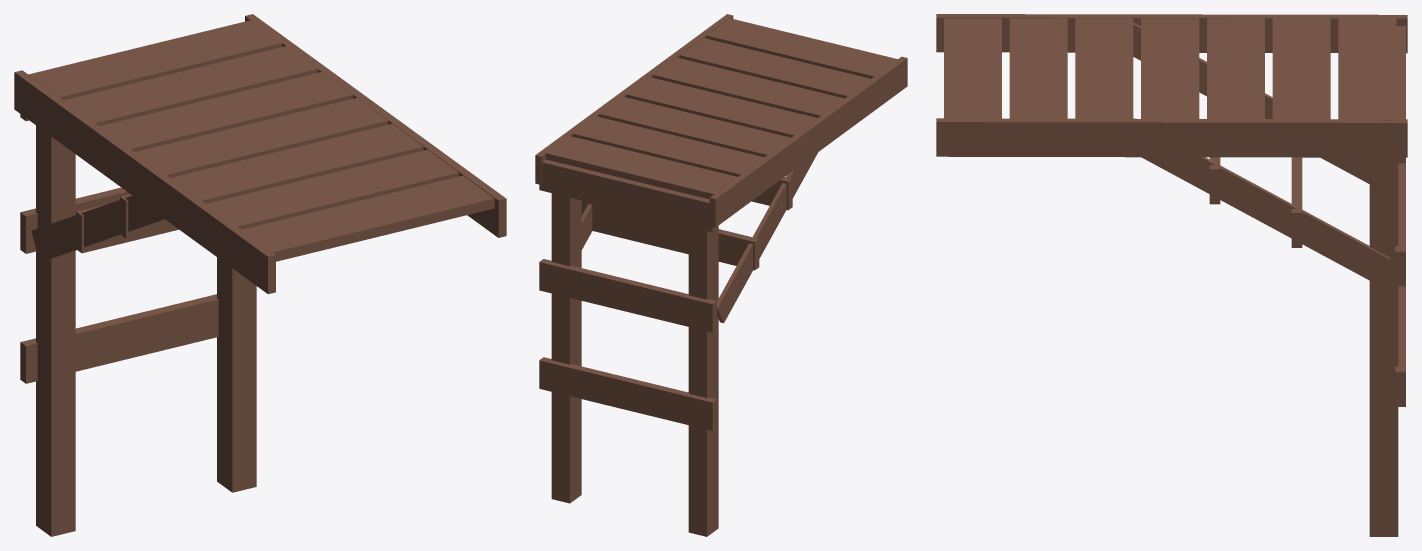
File: Base_trilho_up_reto.fbx
3 renders of one model, left to right at view 1: azimuth 30°, elevation 25°; view 2: azimuth 150°, elevation 25°; view 3: azimuth 270°, elevation 25°, orthographic. The views are drawn at different scales.
Parts seen in each view (by area): view 1: Base_trilho_up_reto; view 2: Base_trilho_up_reto; view 3: Base_trilho_up_reto.
Boxes of the visible parts, box(x1,y1,x2,y2) form: Base_trilho_up_reto: box(14, 14, 506, 536); Base_trilho_up_reto: box(535, 14, 907, 536); Base_trilho_up_reto: box(936, 14, 1407, 536).
Bounding box in the file's own units: 223 × 407 × 412.
